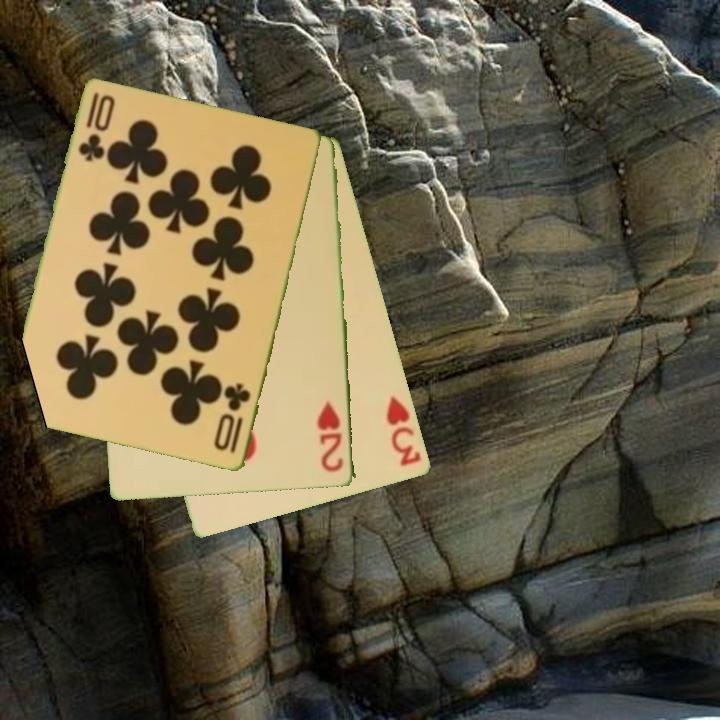10c: (211, 380, 254, 457), (75, 89, 116, 165)
2h: (315, 398, 347, 475)
3h: (383, 392, 425, 469)
